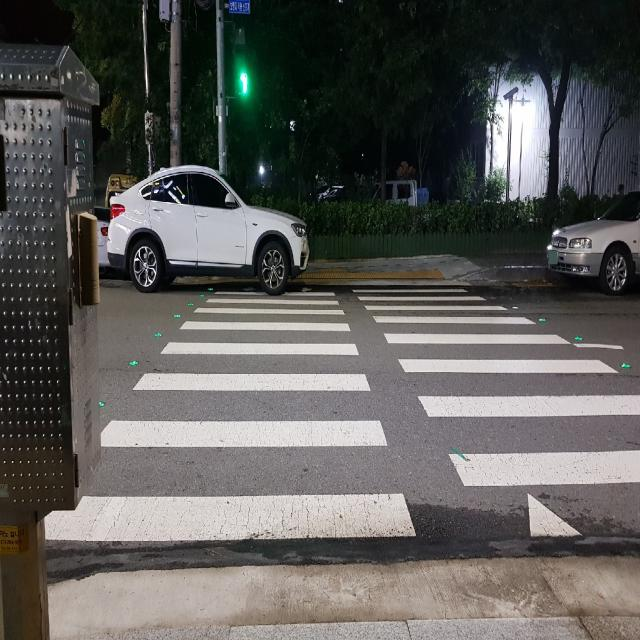초록불: (234, 23, 247, 94)
횡단보도: (43, 286, 640, 547)
